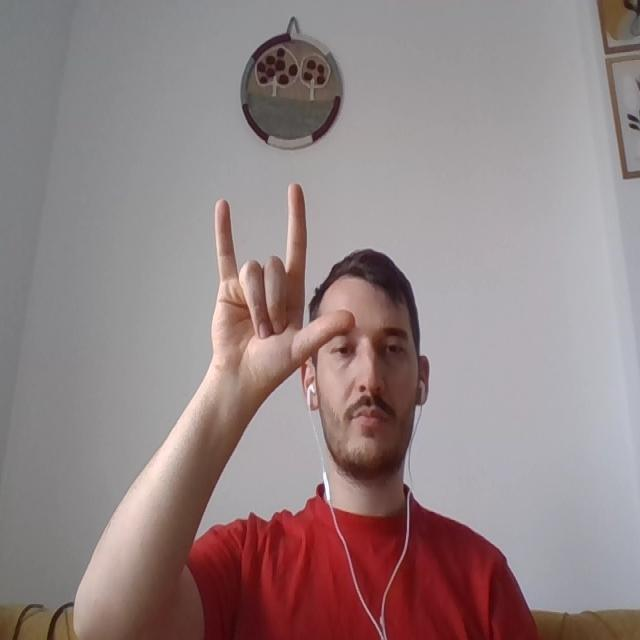i love you: (204, 195, 345, 384)
